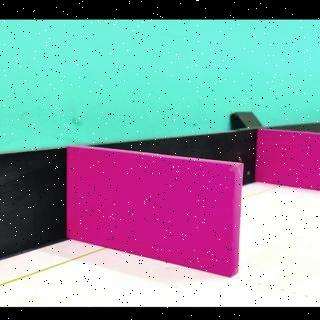xparking: (75, 168, 235, 272), (263, 136, 318, 188)
